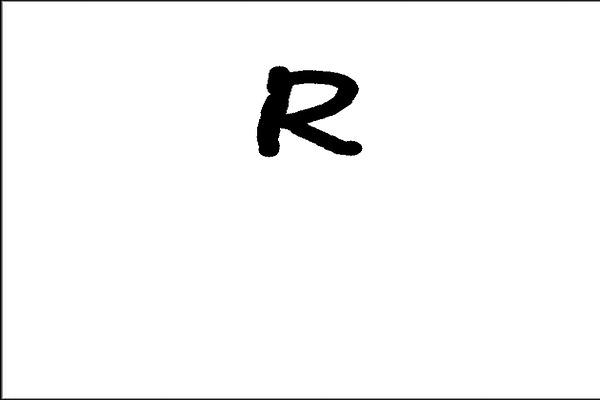R: (249, 58, 372, 164)
